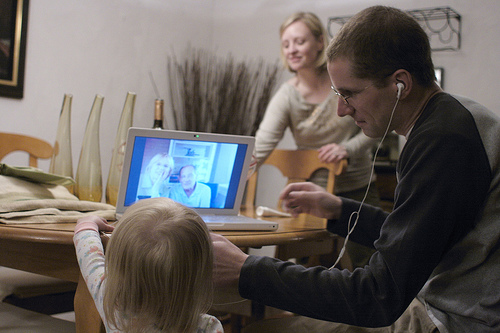without_mask: (326, 42, 413, 142), (281, 19, 323, 73), (148, 155, 173, 181), (178, 166, 199, 191)
